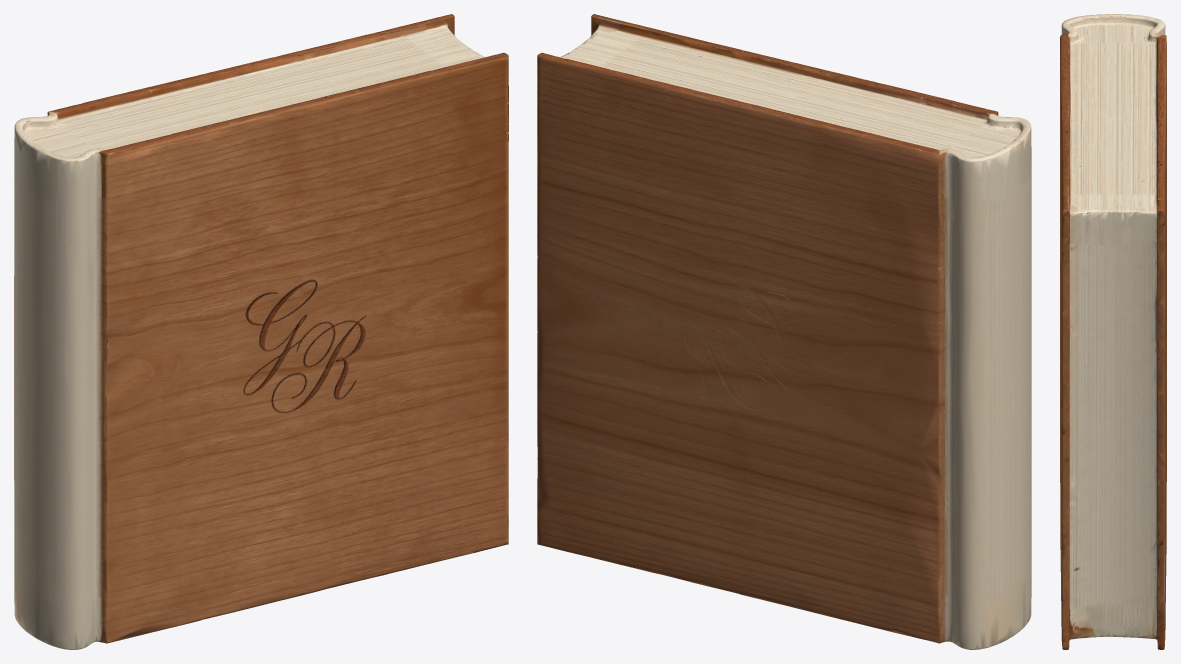
The model's file is vega.glb.
3 renders of one model, left to right at view 1: azimuth 30°, elevation 25°; view 2: azimuth 150°, elevation 25°; view 3: azimuth 270°, elevation 25°, orthographic. The views are drawn at different scales.
Parts seen in each view (by area): view 1: Mesh_0; view 2: Mesh_0; view 3: Mesh_0.
Boxes of the visible parts, <box> form: Mesh_0: <box>14,14,508,649</box>; Mesh_0: <box>537,14,1031,649</box>; Mesh_0: <box>1060,14,1166,649</box>.
Bounding box in the file's own units: 1.84 × 1.91 × 0.4214.
Materials: 1 (1 with a texture image).
